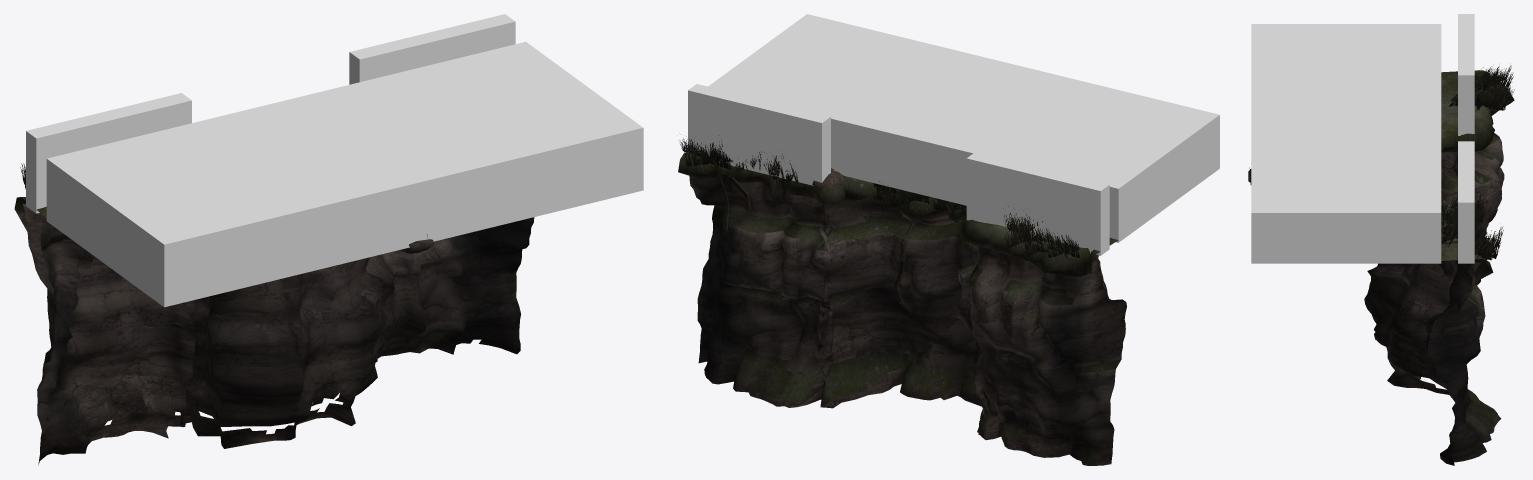
File: cliff_edge_waterfall_notch_8m.glb
3 renders of one model, left to right at view 1: azimuth 30°, elevation 25°; view 2: azimuth 150°, elevation 25°; view 3: azimuth 270°, elevation 25°, orthographic. The views are drawn at different scales.
Visible parts, largest first — view 1: col_walk_cliff_edge_waterfall_notch_8m, cliff_edge_waterfall_notch_8m, col_block_rim_cliff_edge_waterfall_notch_8m_0, col_block_rim_cliff_edge_waterfall_notch_8m_1; view 2: cliff_edge_waterfall_notch_8m, col_walk_cliff_edge_waterfall_notch_8m, col_block_rim_cliff_edge_waterfall_notch_8m_1, col_block_rim_cliff_edge_waterfall_notch_8m_0; view 3: col_walk_cliff_edge_waterfall_notch_8m, cliff_edge_waterfall_notch_8m, col_block_rim_cliff_edge_waterfall_notch_8m_1, col_block_rim_cliff_edge_waterfall_notch_8m_0.
Part boxes in pixels (x1,y1,x2,y2): col_walk_cliff_edge_waterfall_notch_8m: (46,42,643,307); cliff_edge_waterfall_notch_8m: (14,163,534,465); col_block_rim_cliff_edge_waterfall_notch_8m_0: (26,93,191,213); col_block_rim_cliff_edge_waterfall_notch_8m_1: (349,14,515,84); cliff_edge_waterfall_notch_8m: (678,135,1126,465); col_walk_cliff_edge_waterfall_notch_8m: (708,14,1219,242); col_block_rim_cliff_edge_waterfall_notch_8m_1: (688,84,830,185); col_block_rim_cliff_edge_waterfall_notch_8m_0: (966,152,1109,255); col_walk_cliff_edge_waterfall_notch_8m: (1251,24,1441,263); cliff_edge_waterfall_notch_8m: (1248,65,1514,465); col_block_rim_cliff_edge_waterfall_notch_8m_1: (1458,141,1474,263); col_block_rim_cliff_edge_waterfall_notch_8m_0: (1458,14,1474,135).
Size of the model in its own units: 8.13 by 5.2 by 4.84.
5 materials, 5 textured.
